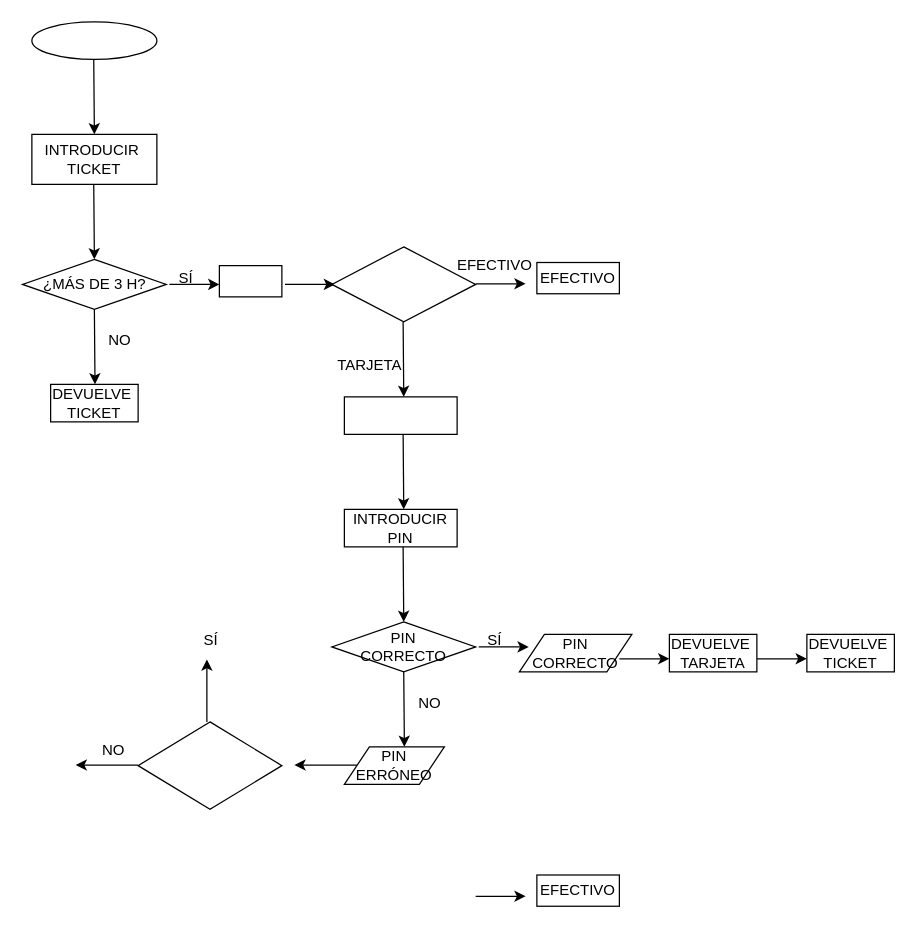
The diagram is 916 pixels wide and 929 high, and some of its shapes have lost their labels. Here are the shapes that lost their labels. From the top down, the centre of each, then its label:
At (x=94, y=40): "INICIO".
At (x=250, y=280): "PAGAR".
At (x=403, y=284): "EFECTIVO/ TARJETA".
At (x=400, y=415): "INTRODUCIR TARJETA".
At (x=209, y=765): "VOLVER A INTRODUCIR PIN".
